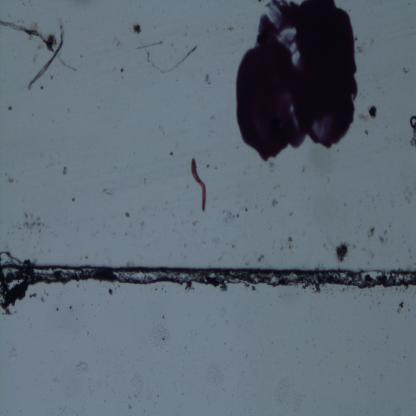Background material: (14, 211, 48, 234), (218, 204, 247, 227), (334, 242, 350, 261), (279, 232, 294, 250), (408, 116, 416, 147), (367, 104, 378, 122), (378, 226, 388, 245), (365, 224, 377, 238), (402, 187, 410, 207), (132, 22, 143, 36), (356, 112, 368, 124), (61, 162, 70, 176), (388, 197, 398, 209), (402, 64, 412, 76), (272, 199, 282, 210), (256, 252, 266, 262), (357, 45, 366, 54), (268, 162, 276, 172), (205, 74, 212, 85), (272, 181, 281, 189), (7, 176, 14, 183), (118, 66, 125, 72), (7, 104, 12, 112), (39, 84, 44, 92), (365, 128, 370, 136), (168, 152, 174, 158), (71, 196, 76, 203), (125, 212, 130, 219)
Cellulose filter fibre: (0, 20, 78, 74), (26, 15, 66, 94), (137, 39, 198, 80)
Cotton: (186, 158, 210, 213)
Edge of slide: (0, 261, 416, 415)
Pen: (232, 0, 358, 161)
